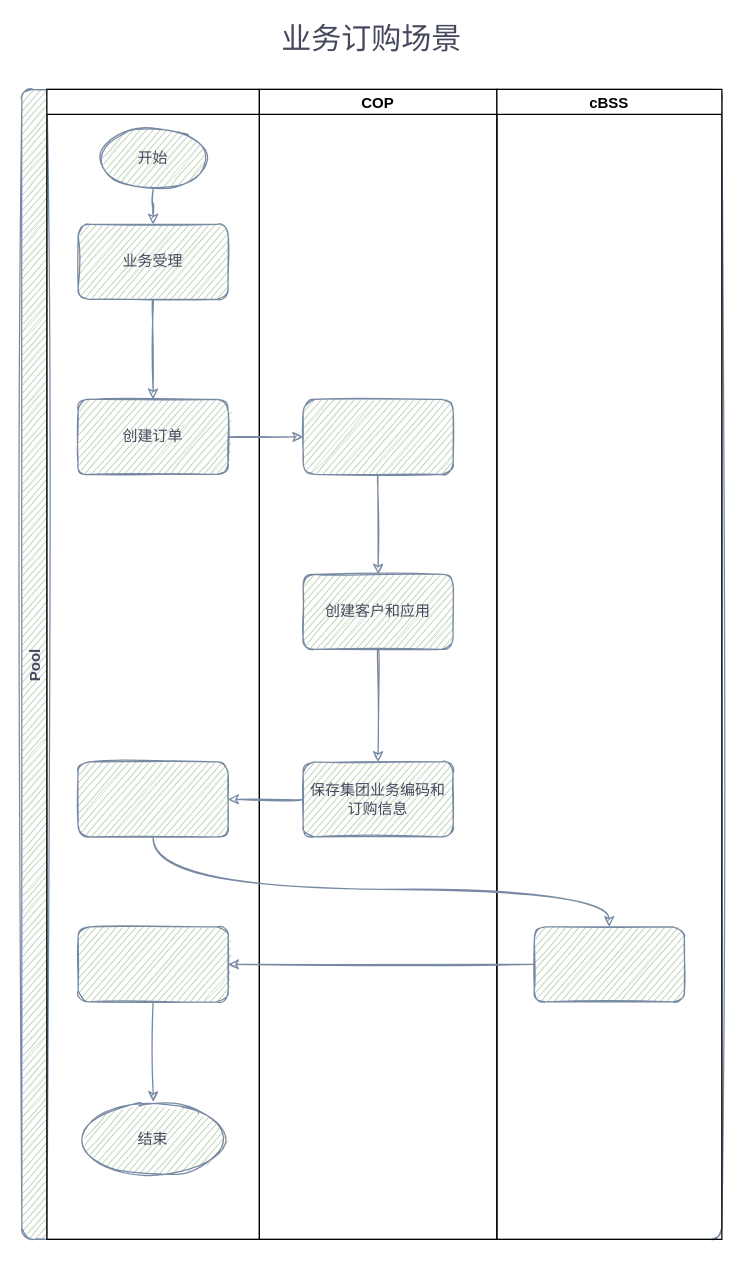
Some shapes in this 744 by 1261 pixel diagram are drawn without their labels. The shapes that lost their labels are listed below. From the top down, each one's box as (x1, y1, x2, y2) in pixels, then its label:
(302, 398, 453, 474): 业务订购
(46, 88, 259, 1239): 政企中台
(77, 761, 228, 837): 创建集团用户资料
(77, 926, 228, 1002): 归档集团用户资料
(533, 926, 684, 1002): 落集团用户资料
